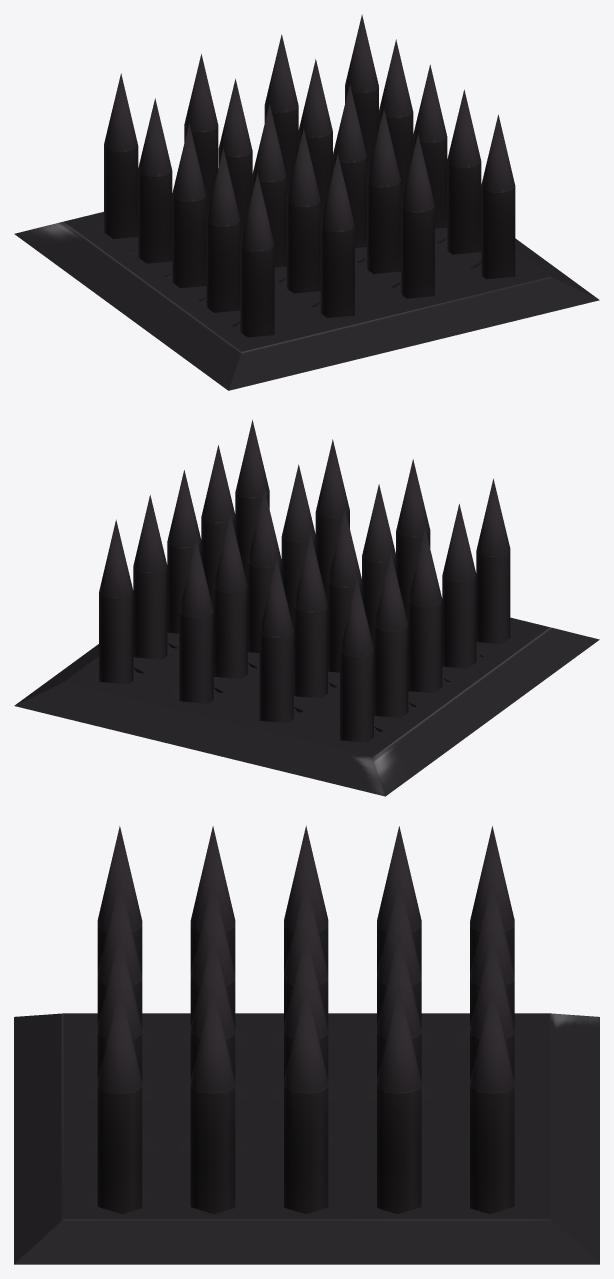
Rendered from Spike_Trap.fbx.
3 renders of one model, top to bottom at view 1: azimuth 30°, elevation 25°; view 2: azimuth 150°, elevation 25°; view 3: azimuth 270°, elevation 25°, orthographic. The views are drawn at different scales.
Parts seen in each view (by area): view 1: Spike, Base; view 2: Spike, Base; view 3: Base, Spike.
Part boxes in pixels (x1,y1,x2,y2): Spike: [104, 14, 515, 337]; Base: [14, 212, 599, 390]; Spike: [99, 419, 510, 742]; Base: [14, 617, 599, 796]; Base: [14, 1013, 599, 1264]; Spike: [97, 825, 514, 1214].
Size of the model in its own units: 122 by 54.33 by 122.
